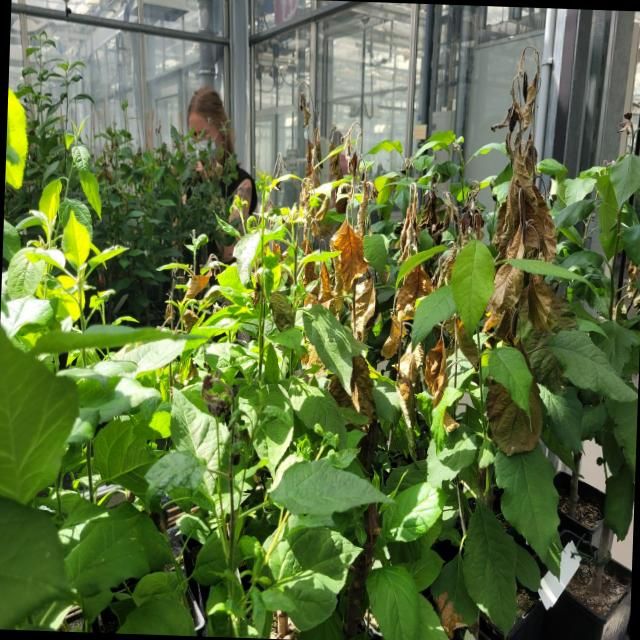-FireBlight-: (487, 46, 580, 344), (379, 171, 485, 400), (327, 120, 380, 337)
